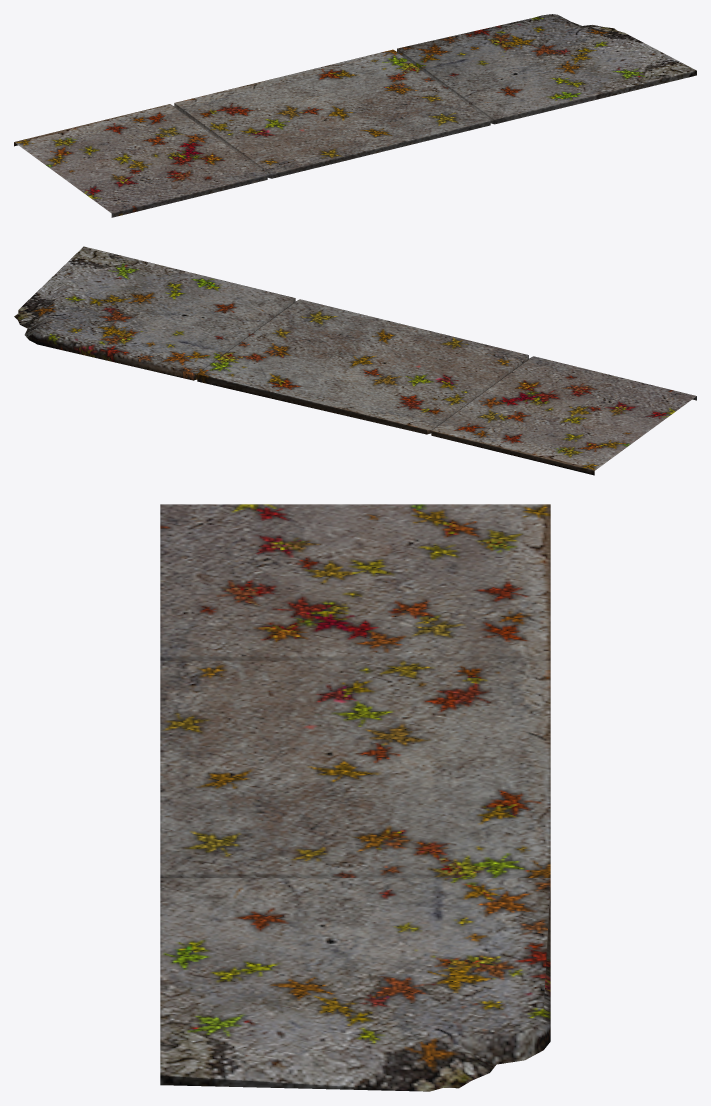
The model's file is Sidewalk.fbx.
The picture shows the model from 3 angles, top to bottom: view 1: azimuth 30°, elevation 25°; view 2: azimuth 150°, elevation 25°; view 3: azimuth 270°, elevation 25°; orthographic projection. The views are drawn at different scales.
Visible parts, largest first — view 1: Sidewalk; view 2: Sidewalk; view 3: Sidewalk.
Part boxes in pixels (x1,y1,x2,y2): Sidewalk: (14, 14, 696, 217); Sidewalk: (14, 246, 696, 475); Sidewalk: (160, 504, 550, 1091).
Bounding box in the file's own units: 7.46 × 0.1261 × 2.16.
